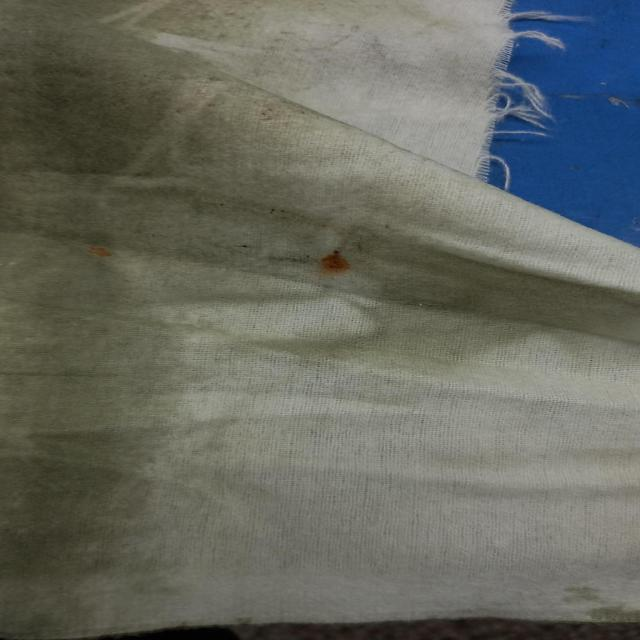baekra: (9, 3, 558, 620)
